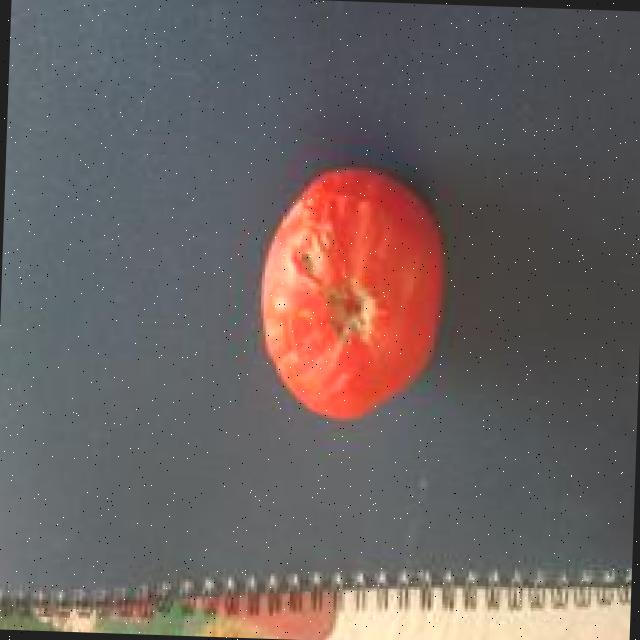overripe: (251, 161, 456, 428)
